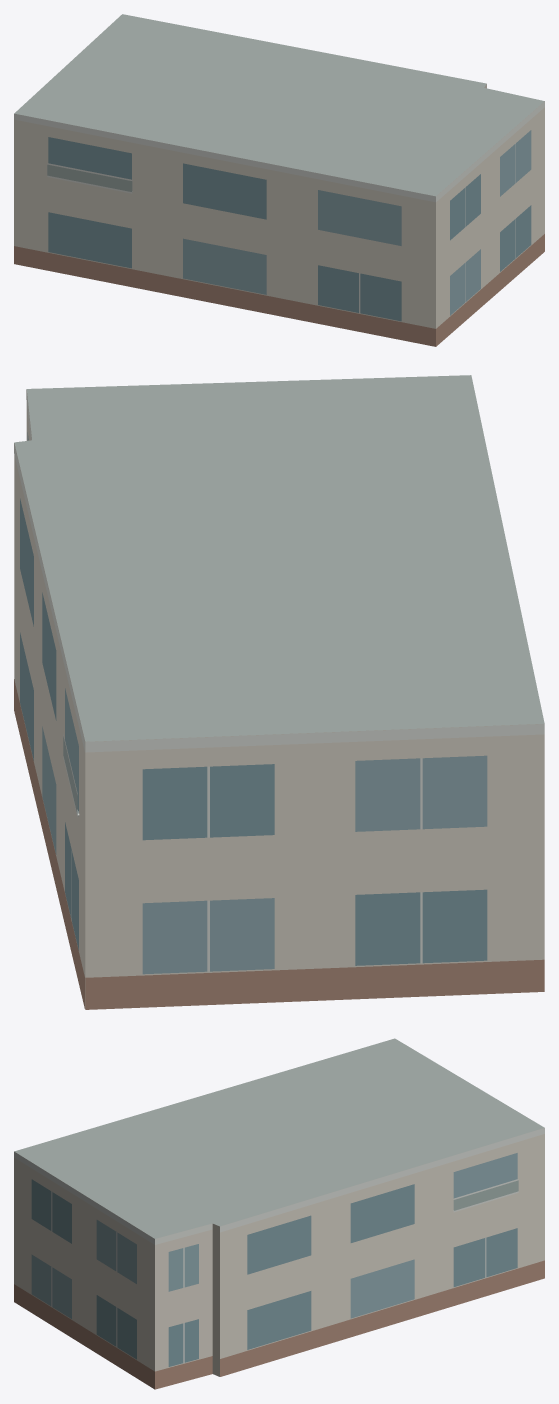
The model's file is survey-upis-32802300.glb.
The picture shows the model from 3 angles, top to bottom: view 1: azimuth 30°, elevation 25°; view 2: azimuth 150°, elevation 25°; view 3: azimuth 270°, elevation 25°; orthographic projection. The views are drawn at different scales.
Visible parts, largest first — view 1: survey-upis-32802300.tmp; view 2: survey-upis-32802300.tmp; view 3: survey-upis-32802300.tmp.
Part boxes in pixels (x1=…): survey-upis-32802300.tmp: x1=14, y1=14, x2=544, y2=346; survey-upis-32802300.tmp: x1=14, y1=375, x2=544, y2=1009; survey-upis-32802300.tmp: x1=14, y1=1038, x2=544, y2=1389.
Bounding box in the file's own units: 17.44 × 6.1 × 19.5.
